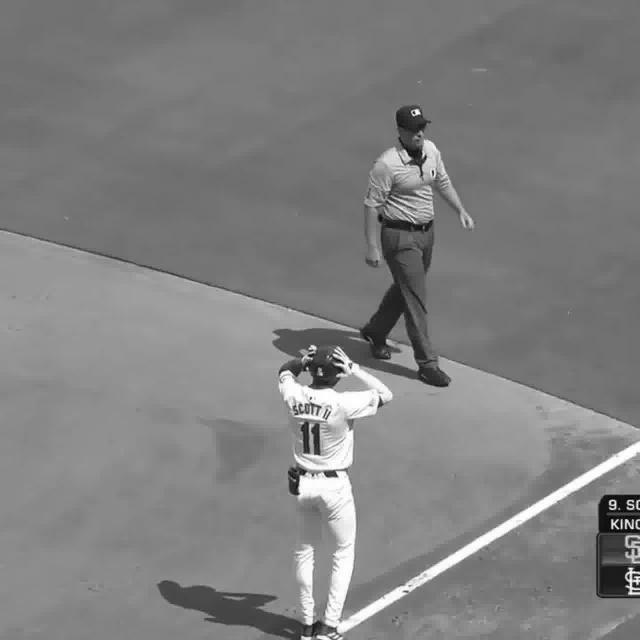shoe: (363, 324, 398, 359), (418, 360, 452, 390), (300, 623, 347, 639)
